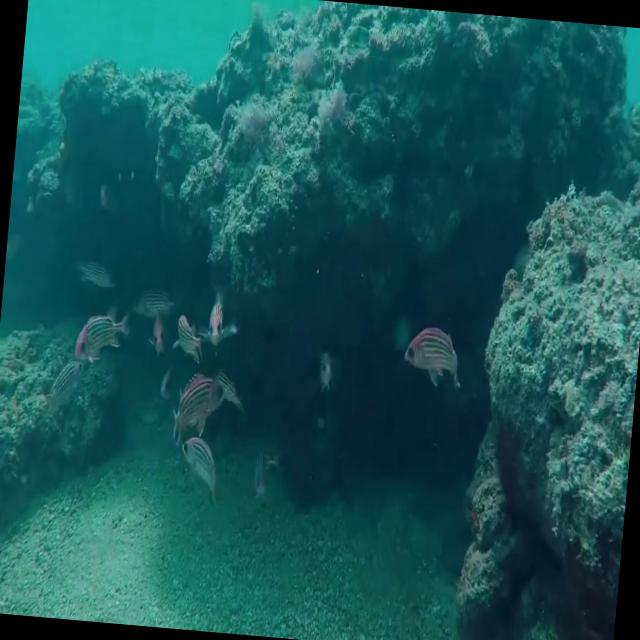Asker Baligi: (164, 366, 228, 452), (400, 321, 465, 391), (74, 293, 130, 370)
